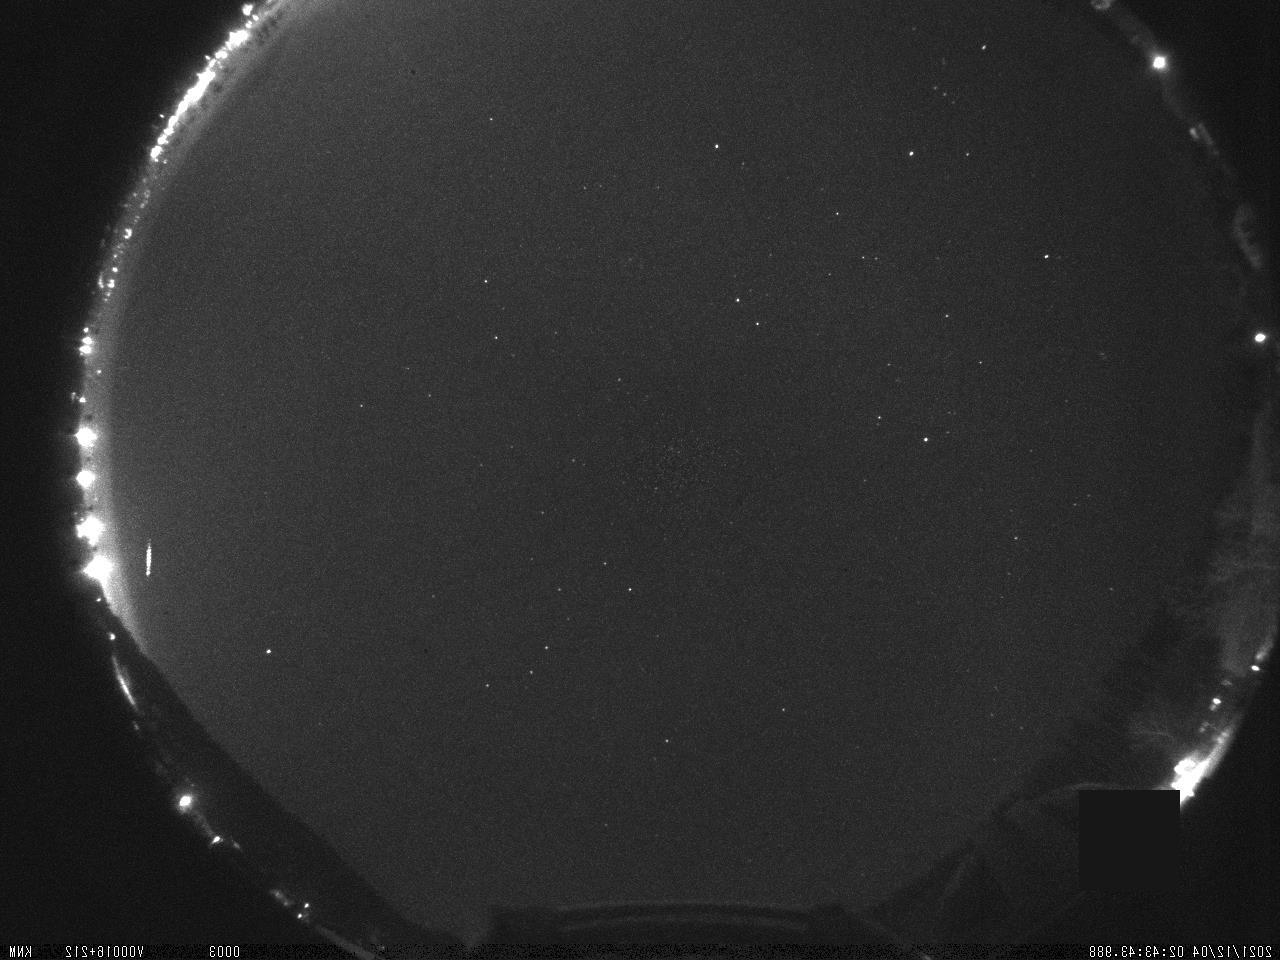meteor: (134, 529, 160, 583)
